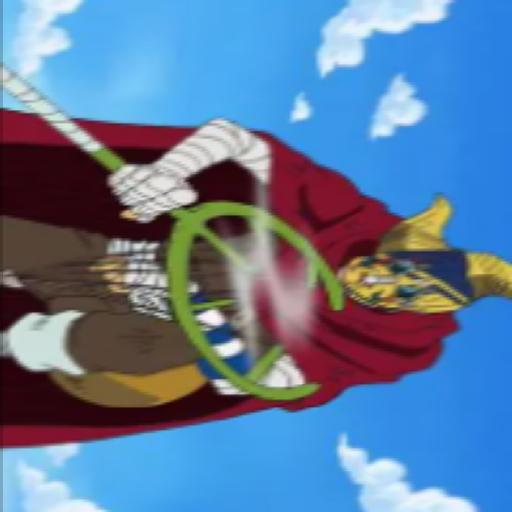Usopp: (2, 52, 511, 450)
